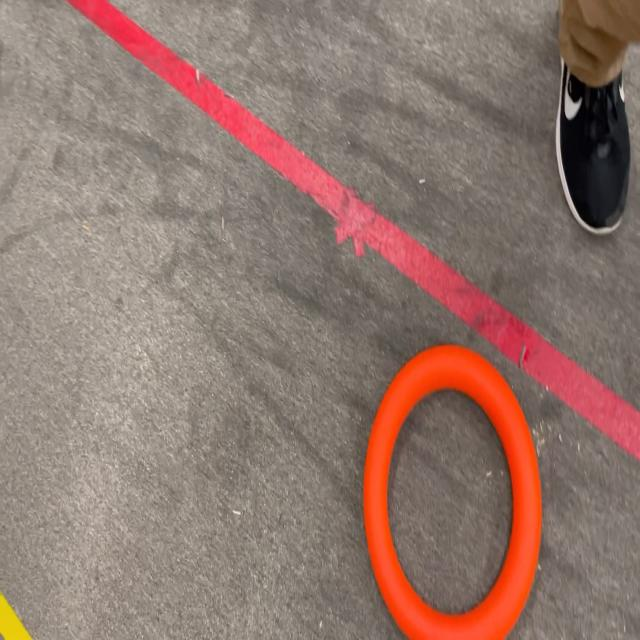note: (363, 345, 542, 640)
